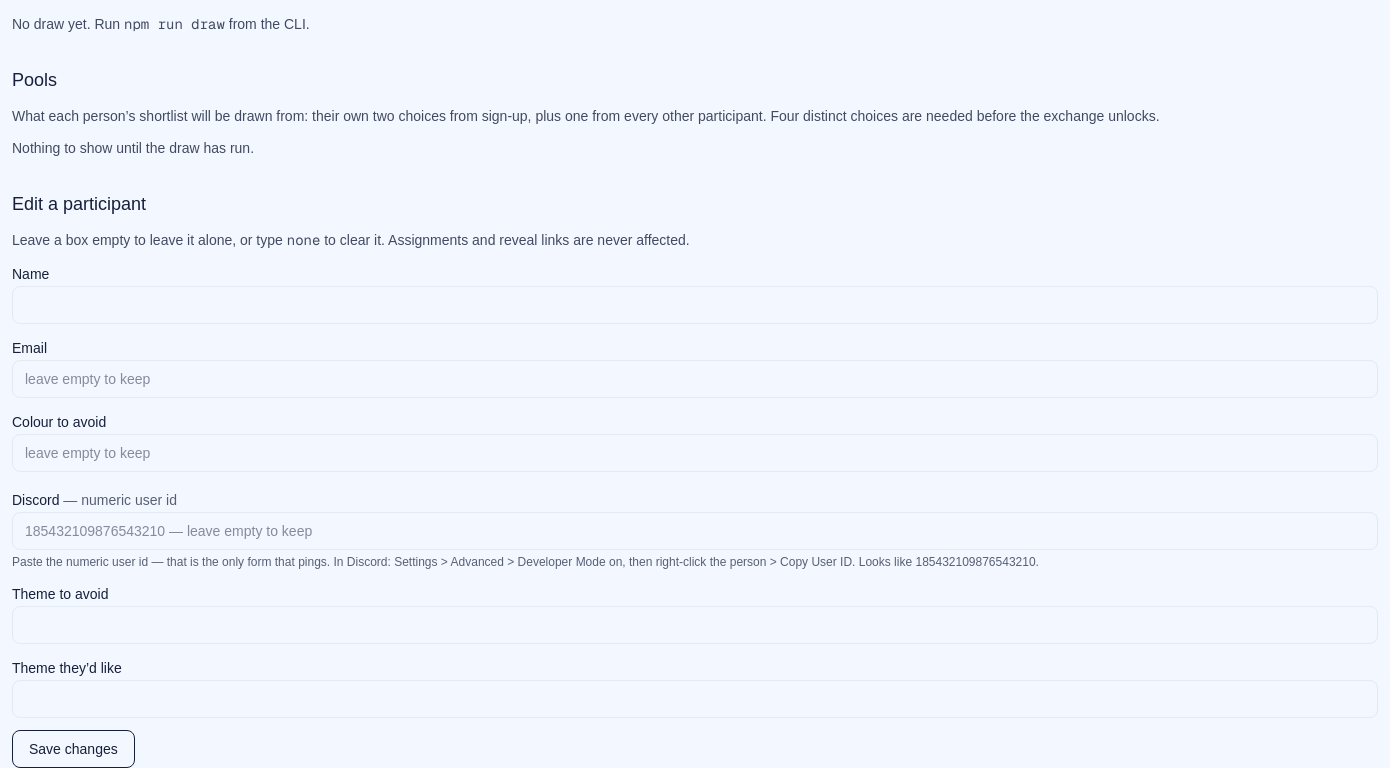
Test: AdminConsole, the Discord box › confirms a user id will ping
(page scrolled)
Type "185432109876543210" into the field labelled "Discord" at (695, 531), box [12,512,1378,550]
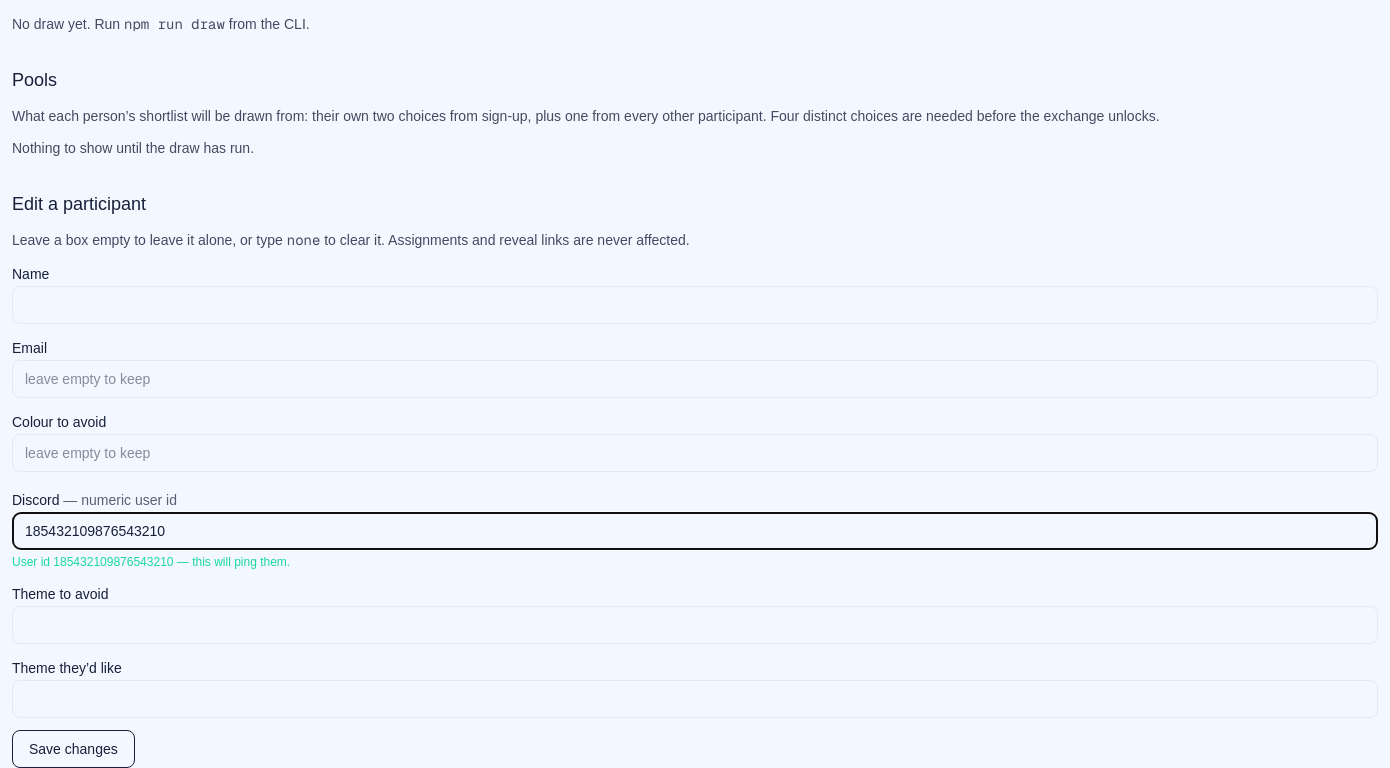
Expected: the text "User id 185432109876543210 — this will ping them." is shown, [12,555,290,569]
